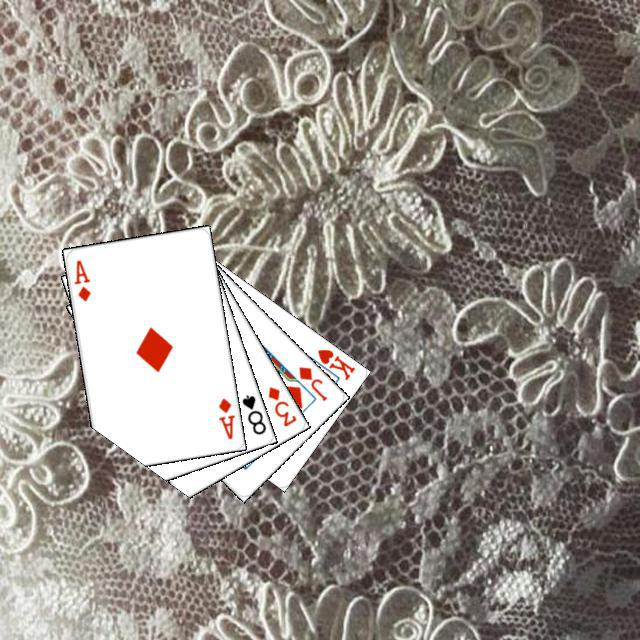3d: (263, 381, 298, 428)
8s: (237, 390, 268, 436)
Ad: (69, 255, 92, 303), (214, 393, 236, 441)
Jd: (293, 361, 329, 403)
Kh: (303, 344, 357, 383)
